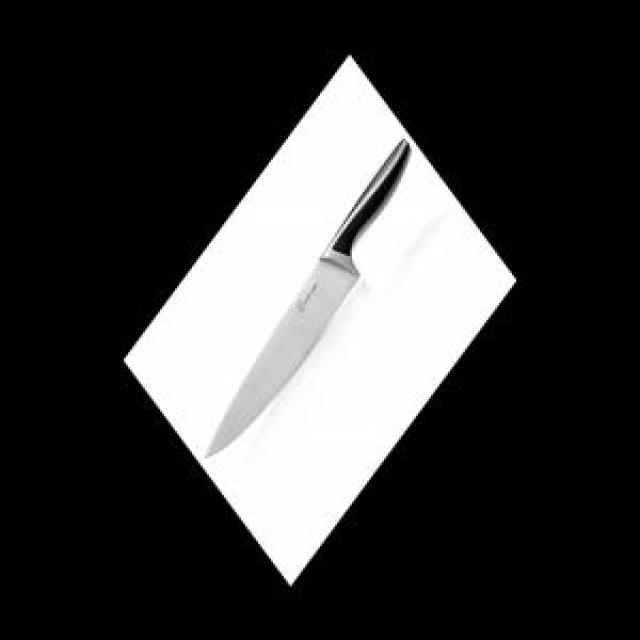knife: (205, 139, 414, 466)
